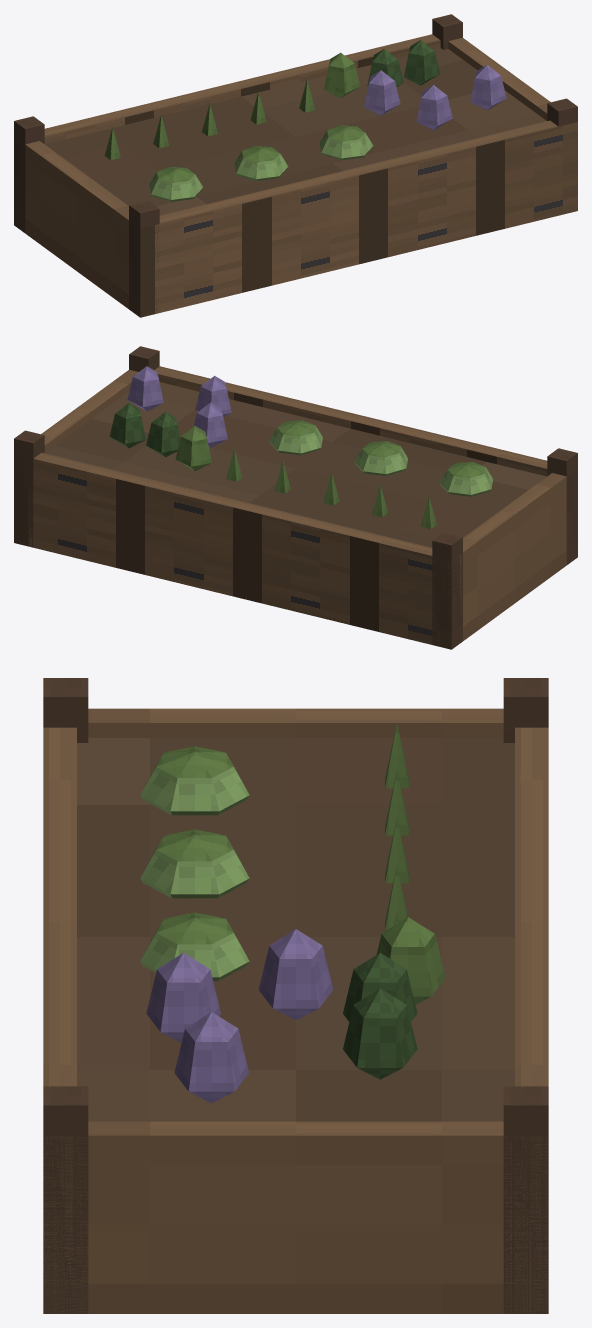
Rendered from raised-bed.glb.
The picture shows the model from 3 angles, top to bottom: view 1: azimuth 30°, elevation 25°; view 2: azimuth 150°, elevation 25°; view 3: azimuth 270°, elevation 25°; orthographic projection. The views are drawn at different scales.
Visible parts, largest first — view 1: raised-bed.001; view 2: raised-bed.001; view 3: raised-bed.001.
Boxes of the visible parts, box(x1,y1,x2,y2) form: raised-bed.001: box(14, 14, 577, 317); raised-bed.001: box(14, 346, 577, 649); raised-bed.001: box(43, 678, 548, 1313).
Size of the model in its own units: 1.8 by 0.5 by 0.9.
1 material, 1 textured.
